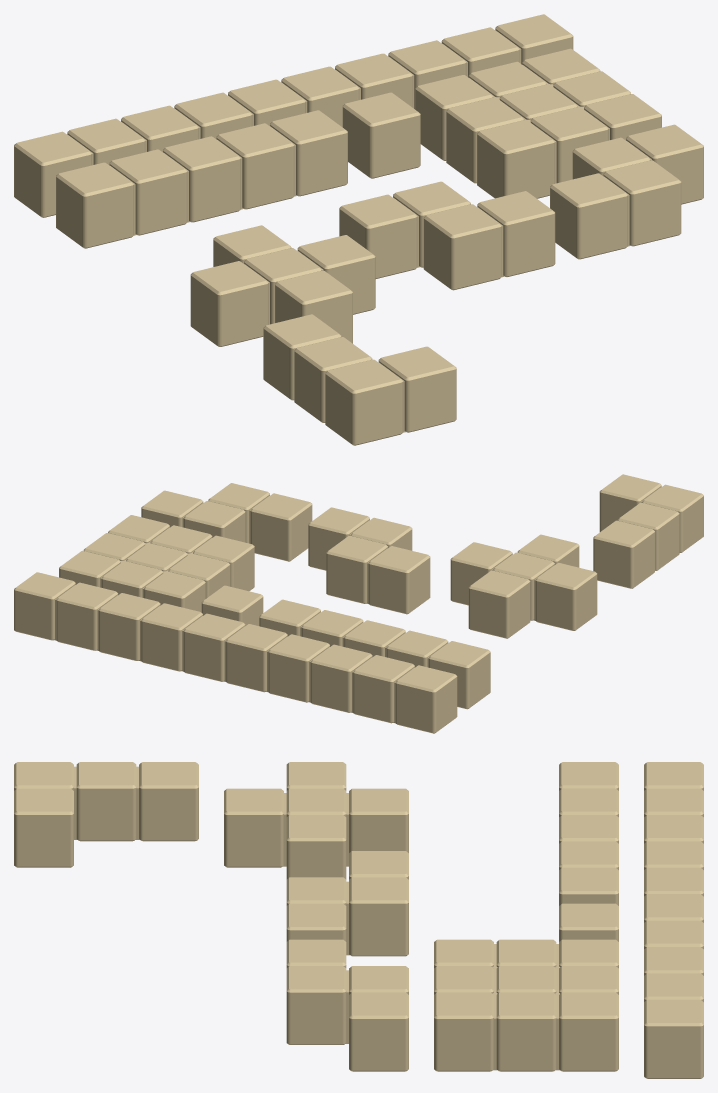
File: kostky.glb
The picture shows the model from 3 angles, top to bottom: view 1: azimuth 30°, elevation 25°; view 2: azimuth 150°, elevation 25°; view 3: azimuth 270°, elevation 25°; orthographic projection. The views are drawn at different scales.
Parts seen in each view (by area): view 1: Kostky_A_03_Desitka, Kostky_A_02_Petka, Kostky_A_05_Ctverec_3x3, Kostky_A_07_Tetris_Z, Kostky_A_09_Tetris_L, Kostky_A_06_Kriz, Kostky_A_08_Tetris_S, Kostky_A_01_Jednotka; view 2: Kostky_A_03_Desitka, Kostky_A_05_Ctverec_3x3, Kostky_A_06_Kriz, Kostky_A_07_Tetris_Z, Kostky_A_09_Tetris_L, Kostky_A_02_Petka, Kostky_A_08_Tetris_S, Kostky_A_01_Jednotka; view 3: Kostky_A_05_Ctverec_3x3, Kostky_A_03_Desitka, Kostky_A_09_Tetris_L, Kostky_A_06_Kriz, Kostky_A_08_Tetris_S, Kostky_A_07_Tetris_Z, Kostky_A_02_Petka, Kostky_A_01_Jednotka.
Part boxes in pixels (x1,y1,x2,y2): Kostky_A_03_Desitka: [14, 14, 573, 217]; Kostky_A_02_Petka: [56, 110, 347, 248]; Kostky_A_05_Ctverec_3x3: [415, 48, 661, 198]; Kostky_A_07_Tetris_Z: [339, 181, 555, 290]; Kostky_A_09_Tetris_L: [263, 314, 456, 445]; Kostky_A_06_Kriz: [190, 225, 375, 346]; Kostky_A_08_Tetris_S: [550, 124, 703, 259]; Kostky_A_01_Jednotka: [342, 92, 420, 178]; Kostky_A_03_Desitka: [14, 572, 457, 733]; Kostky_A_05_Ctverec_3x3: [59, 515, 254, 612]; Kostky_A_06_Kriz: [450, 534, 597, 638]; Kostky_A_07_Tetris_Z: [308, 507, 430, 614]; Kostky_A_09_Tetris_L: [593, 474, 703, 588]; Kostky_A_02_Petka: [259, 599, 490, 709]; Kostky_A_08_Tetris_S: [141, 483, 312, 561]; Kostky_A_01_Jednotka: [201, 585, 263, 625]; Kostky_A_05_Ctverec_3x3: [434, 939, 618, 1071]; Kostky_A_03_Desitka: [644, 762, 703, 1078]; Kostky_A_09_Tetris_L: [14, 762, 198, 867]; Kostky_A_06_Kriz: [224, 762, 408, 879]; Kostky_A_08_Tetris_S: [286, 939, 408, 1071]; Kostky_A_07_Tetris_Z: [286, 851, 408, 956]; Kostky_A_02_Petka: [559, 762, 618, 905]; Kostky_A_01_Jednotka: [559, 903, 618, 941].
Bounding box in the file's own units: 0.1494 × 0.0147 × 0.1656.
